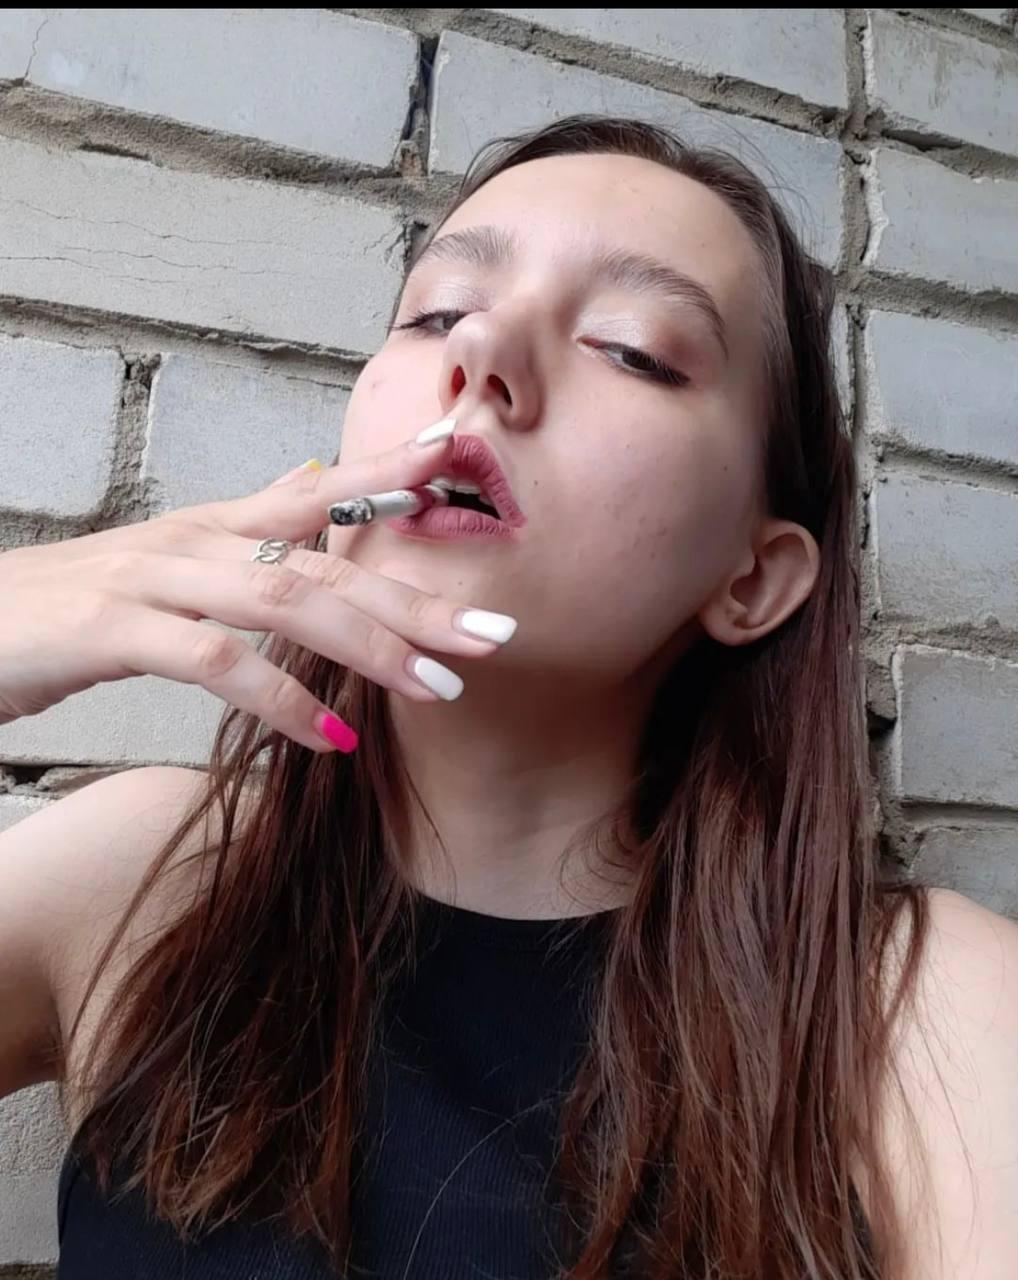cigarette: (328, 483, 449, 527)
